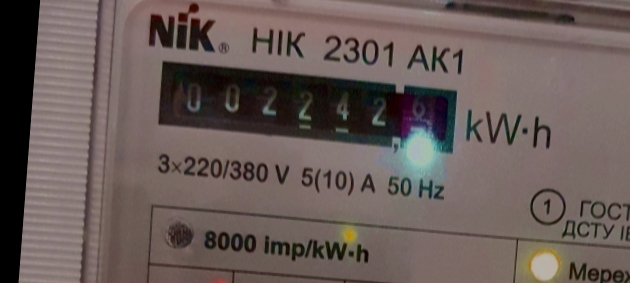0: (184, 80, 206, 115), (222, 80, 243, 114)
2: (296, 87, 316, 122), (260, 84, 281, 117), (370, 95, 389, 128)
4: (335, 88, 353, 122)
6: (411, 92, 428, 120)
screen: (146, 50, 470, 164)
